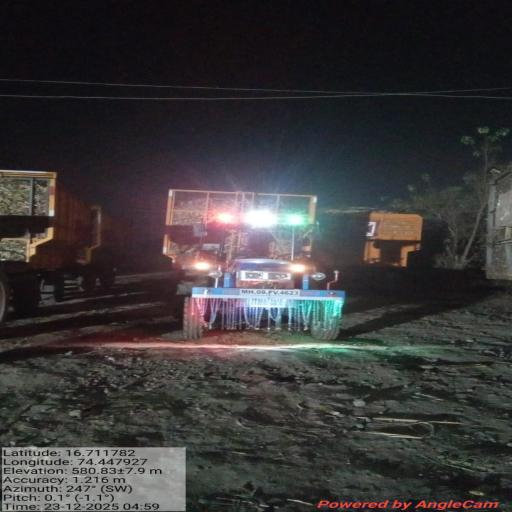number_plate: (225, 277, 321, 305)
